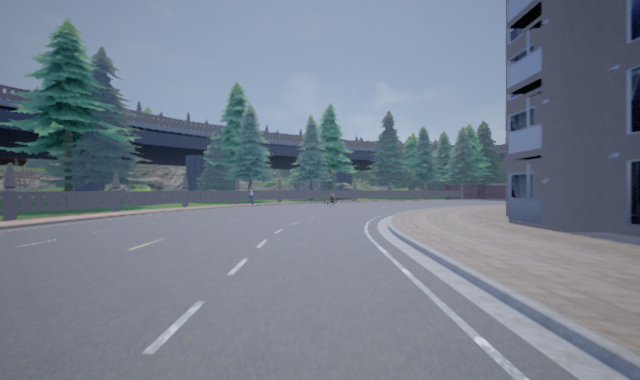bike: (321, 190, 342, 208)
pedestrian: (247, 186, 257, 204)
